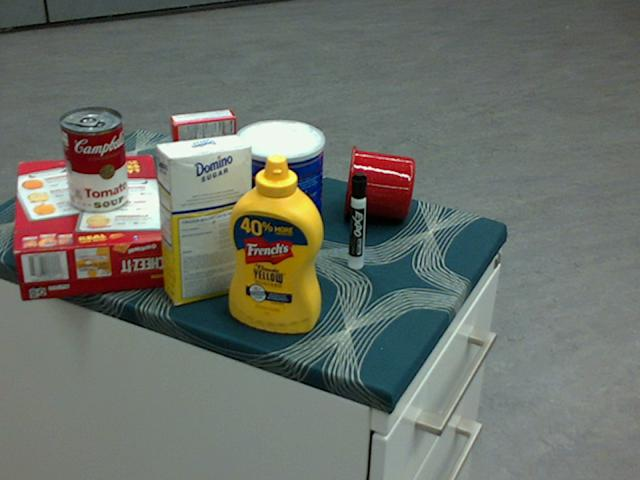cracker_box: (14, 152, 172, 300)
gelatin_box: (169, 109, 235, 171)
large_marker: (349, 172, 367, 269)
master_chef_can: (233, 119, 322, 263)
mug: (342, 144, 413, 219)
mustard_bottle: (229, 153, 323, 333)
potted_meat_can: (222, 129, 304, 214)
sugar_box: (155, 134, 251, 304)
tomato_soup_can: (59, 107, 128, 213)
tuna_fish_can: (161, 157, 190, 226)
